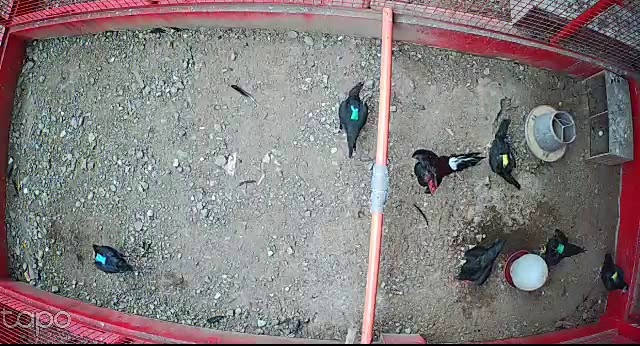Chicken: (482, 116, 523, 191), (450, 235, 508, 286), (337, 75, 372, 159), (534, 225, 589, 267), (592, 249, 630, 297), (88, 241, 137, 275)
Drinker: (504, 250, 550, 294)
Feeder: (525, 104, 578, 160)
Rooster: (408, 145, 485, 196)
Saddle_Color_Blue: (95, 252, 108, 264)
Saddle_Color_Yellow: (499, 153, 510, 168)
